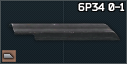AK-74M dust cover 6P34 0-1: (0, 0, 127, 64)
